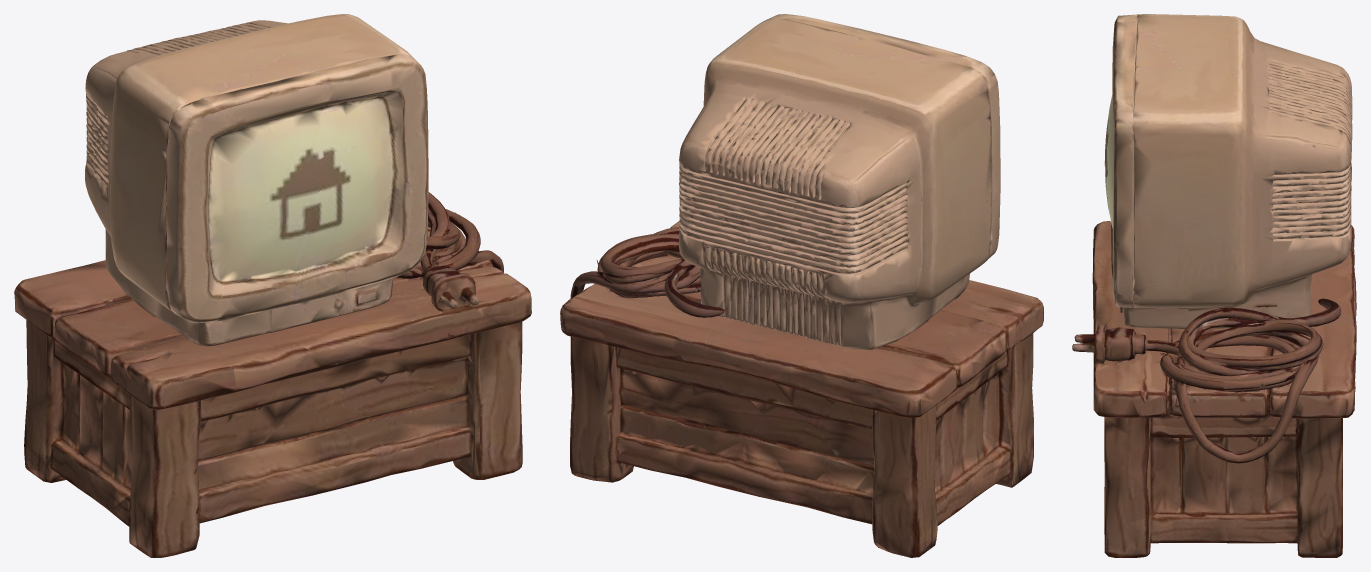
The model's file is monitor.glb.
3 renders of one model, left to right at view 1: azimuth 30°, elevation 25°; view 2: azimuth 150°, elevation 25°; view 3: azimuth 270°, elevation 25°, orthographic. The views are drawn at different scales.
Bounding box in the file's own units: 1.9 × 1.9 × 1.22.
1 material, 1 textured.
